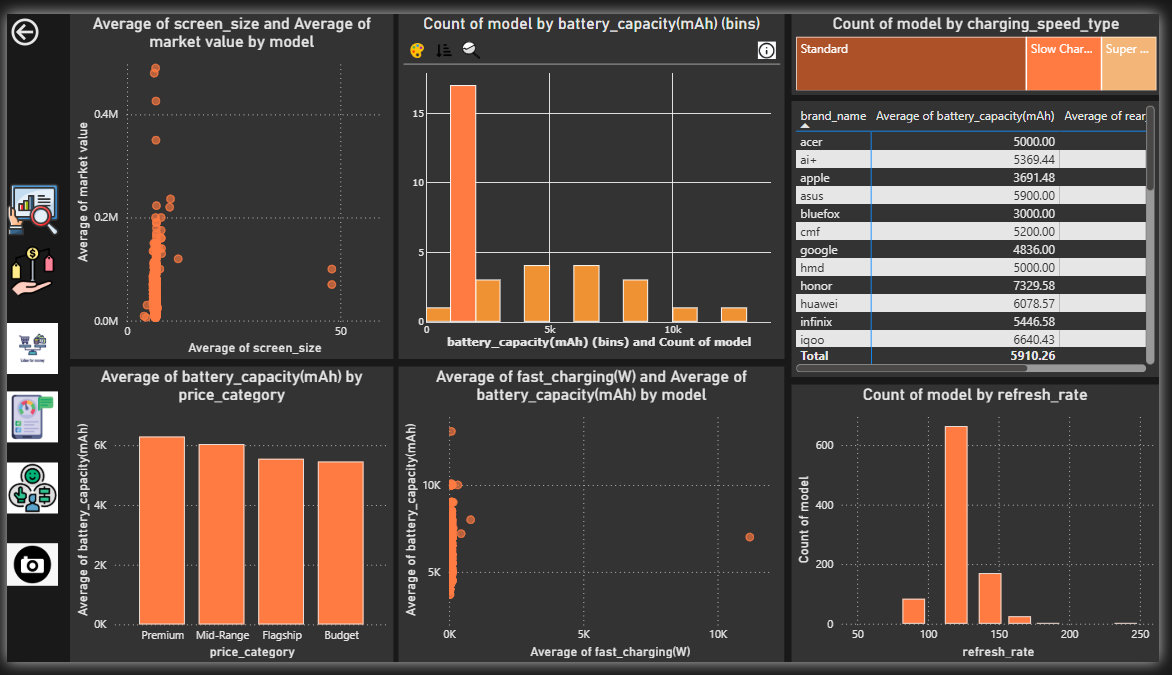

This screenshot's page, from the dashboard's own definition file:
{"tool":"powerbi","page":{"name":"Features & User Experiences","canvas":[1280,720],"ordinal":4},"visuals":[{"type":"scatterChart","fields":{"X":["Avg(smartprix_smartphones_april_202.screen_size)"],"Y":["Avg(smartprix_smartphones_april_202.market value)"],"Category":["Model.model"]},"box":[70,0,359.5,383.3],"z":0},{"type":"columnChart","fields":{"Category":["smartprix_smartphones_april_202.price_category"],"Y":["Avg(smartprix_smartphones_april_202.battery_capacity(mAh))"]},"box":[70,391.3,359.5,329.3],"z":1000},{"type":"histogramF963F133BA02A0B35D286F09F80E9C78","fields":{"col_4":["Model.model"],"col_2":["smartprix_smartphones_april_202.battery_capacity(mAh) (bins)"]},"box":[435.6,0,428.8,383.1],"z":2000},{"type":"scatterChart","fields":{"X":["Avg(smartprix_smartphones_april_202.fast_charging(W))"],"Y":["Avg(smartprix_smartphones_april_202.battery_capacity(mAh))"],"Category":["Model.model"]},"box":[435.6,391.5,428.8,328.8],"z":3000},{"type":"treemap","fields":{"Group":["Charging Speed Type.charging_speed_type"],"Values":["Count(Model.model)"]},"box":[871.2,0,410.2,89.8],"z":4000},{"type":"columnChart","fields":{"Category":["smartprix_smartphones_april_202.refresh_rate"],"Y":["Count(Model.model)"]},"box":[871.2,411.9,408.5,308.5],"z":5000},{"type":"pivotTable","fields":{"Rows":["Brand.brand_name"],"Values":["Avg(smartprix_smartphones_april_202.battery_capacity(mAh))","Avg(smartprix_smartphones_april_202.rear_camera)","Avg(smartprix_smartphones_april_202.ram)"]},"box":[871.2,96.8,408.2,306.4],"z":6000},{"type":"actionButton","box":[0,0,100,40],"z":7000},{"type":"image","box":[0,182.9,57.3,68.4],"z":15000},{"type":"image","box":[0,310,56.7,123.3],"z":16000},{"type":"image","box":[0,241.7,56.7,88.3],"z":17000},{"type":"image","box":[0,410,56.7,75],"z":18000},{"type":"image","box":[0,485,56.7,83.3],"z":19000},{"type":"image","box":[0,556.7,56.7,110],"z":20000},{"type":"pageNavigator","box":[0,173.3,56.7,473.3],"z":20500}]}

Visuals, with their boxes on the page's 1280x720 design canvas (x1, y1, x2, y2). These are canvas units, not pixel positions in the 1172x675 screenshot, which may show the page scaled, cropped or inside an application window:
scatterChart - Avg(smartprix_smartphones_april_202.screen_size) x Avg(smartprix_smartphones_april_202.market value): crop(70, 0, 430, 383)
columnChart - smartprix_smartphones_april_202.price_category x Avg(smartprix_smartphones_april_202.battery_capacity(mAh)): crop(70, 391, 430, 721)
histogramF963F133BA02A0B35D286F09F80E9C78 - Model.model x smartprix_smartphones_april_202.battery_capacity(mAh) (bins): crop(436, 0, 864, 383)
scatterChart - Avg(smartprix_smartphones_april_202.fast_charging(W)) x Avg(smartprix_smartphones_april_202.battery_capacity(mAh)): crop(436, 392, 864, 720)
treemap - Charging Speed Type.charging_speed_type x Count(Model.model): crop(871, 0, 1281, 90)
columnChart - smartprix_smartphones_april_202.refresh_rate x Count(Model.model): crop(871, 412, 1280, 720)
pivotTable - Brand.brand_name x Avg(smartprix_smartphones_april_202.battery_capacity(mAh)): crop(871, 97, 1279, 403)
actionButton: crop(0, 0, 100, 40)
image: crop(0, 183, 57, 251)
image: crop(0, 310, 57, 433)
image: crop(0, 242, 57, 330)
image: crop(0, 410, 57, 485)
image: crop(0, 485, 57, 568)
image: crop(0, 557, 57, 667)
pageNavigator: crop(0, 173, 57, 647)
